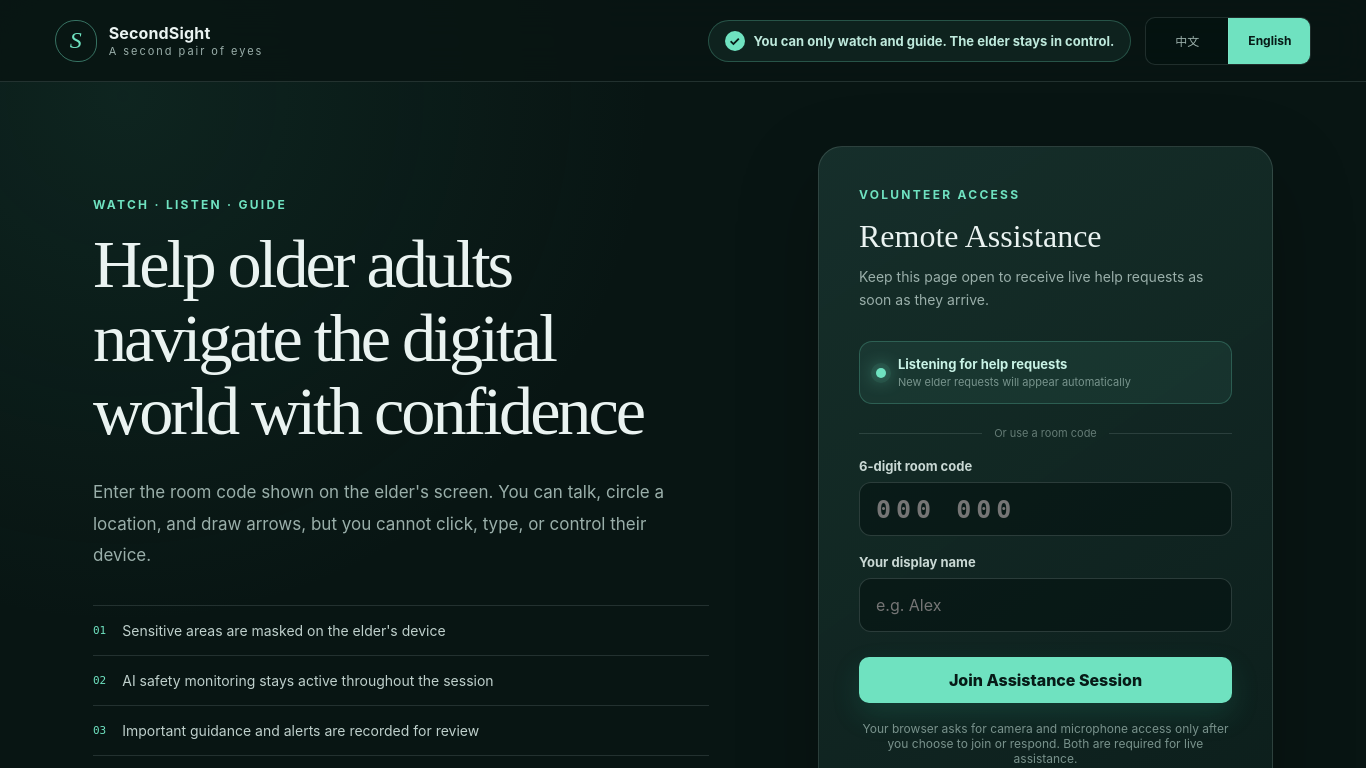
Test: volunteer app › does not consume a room when camera or microphone permission is denied
Expected: the text "asks for camera and microphone access only after you choose" is shown, [862,721,1228,766]
Type "482913" into the field labelled "6-digit room code" at (1045, 509), box [859,482,1232,536]
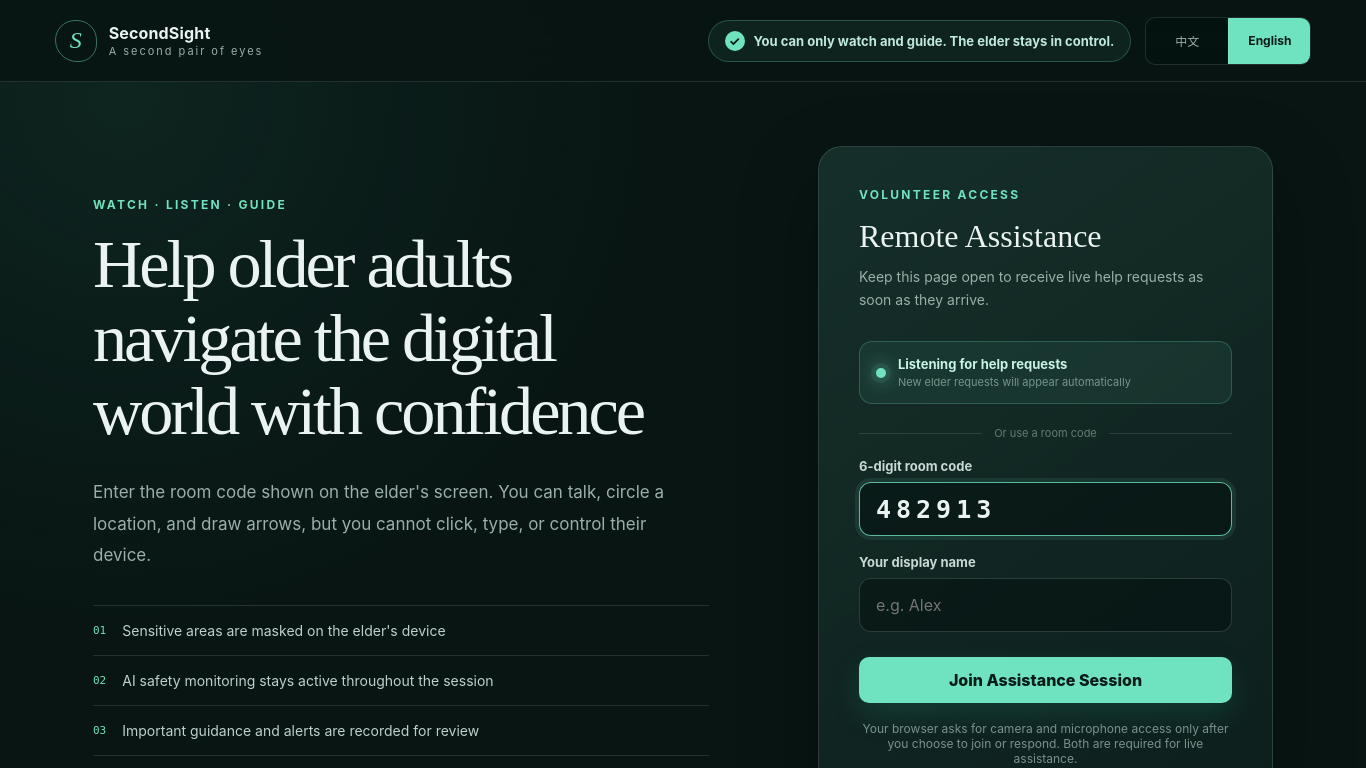
Type "Alex" into the field labelled "Your display name" at (1045, 605), box [859,578,1232,632]
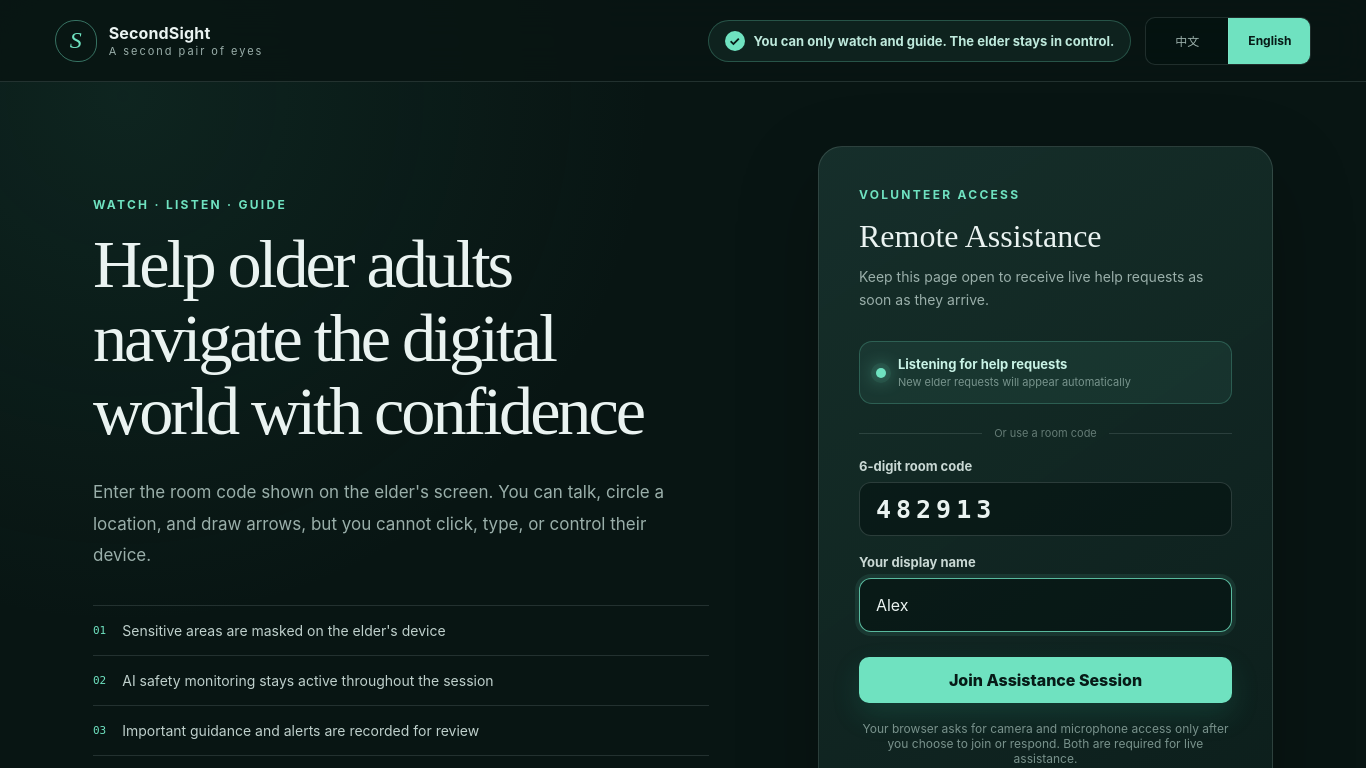
Click the button "Join Assistance Session" at (1045, 680), box [859,657,1232,703]
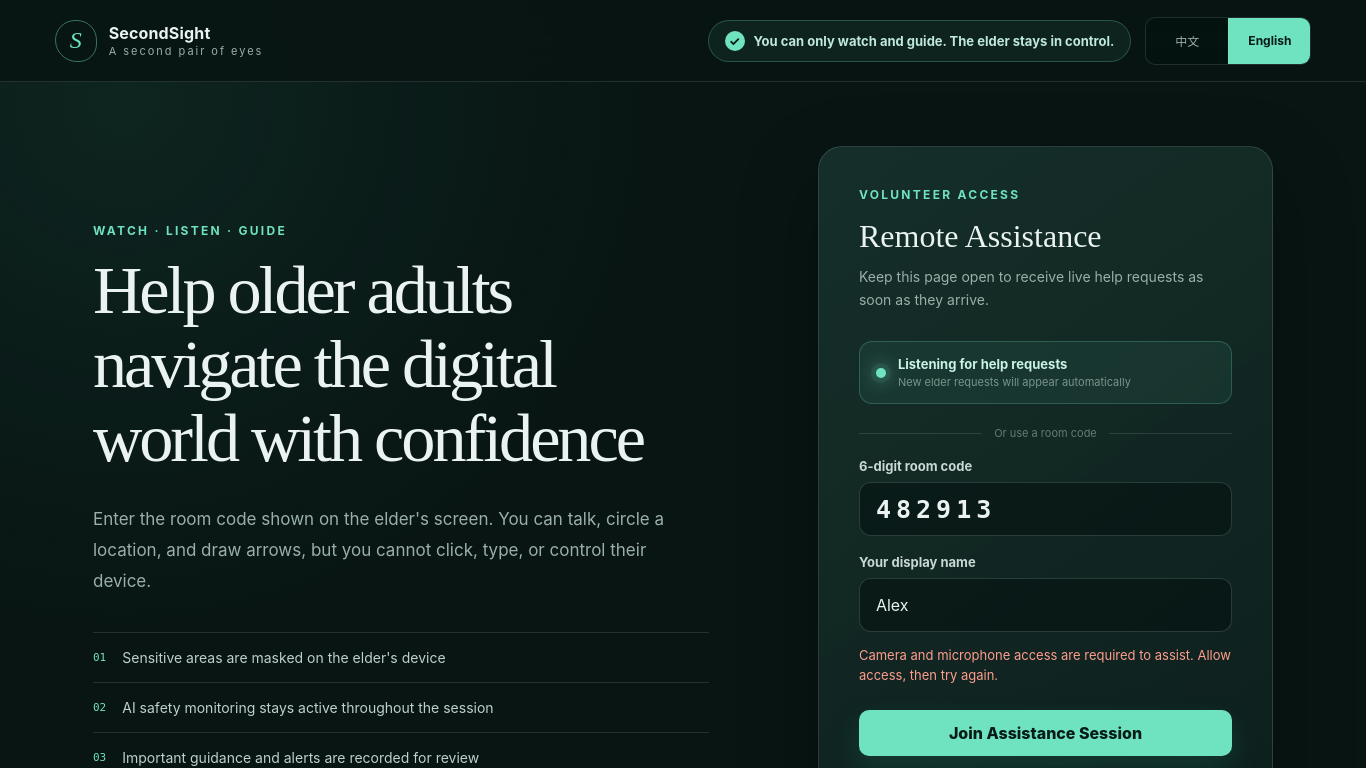
Result: the 2nd message shows "Camera and microphone access are required to assist. Allow access, then try again." at [859,647,1231,683]
